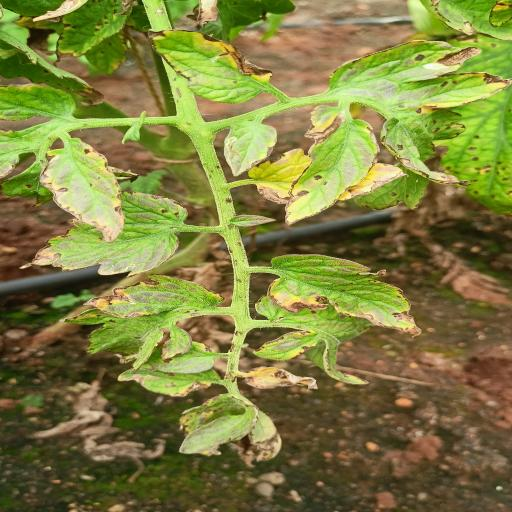Early Blight: (325, 38, 512, 186), (13, 192, 198, 276), (262, 252, 427, 337), (277, 107, 384, 229), (138, 22, 278, 105), (29, 138, 131, 242), (77, 271, 228, 328), (242, 364, 320, 392)
